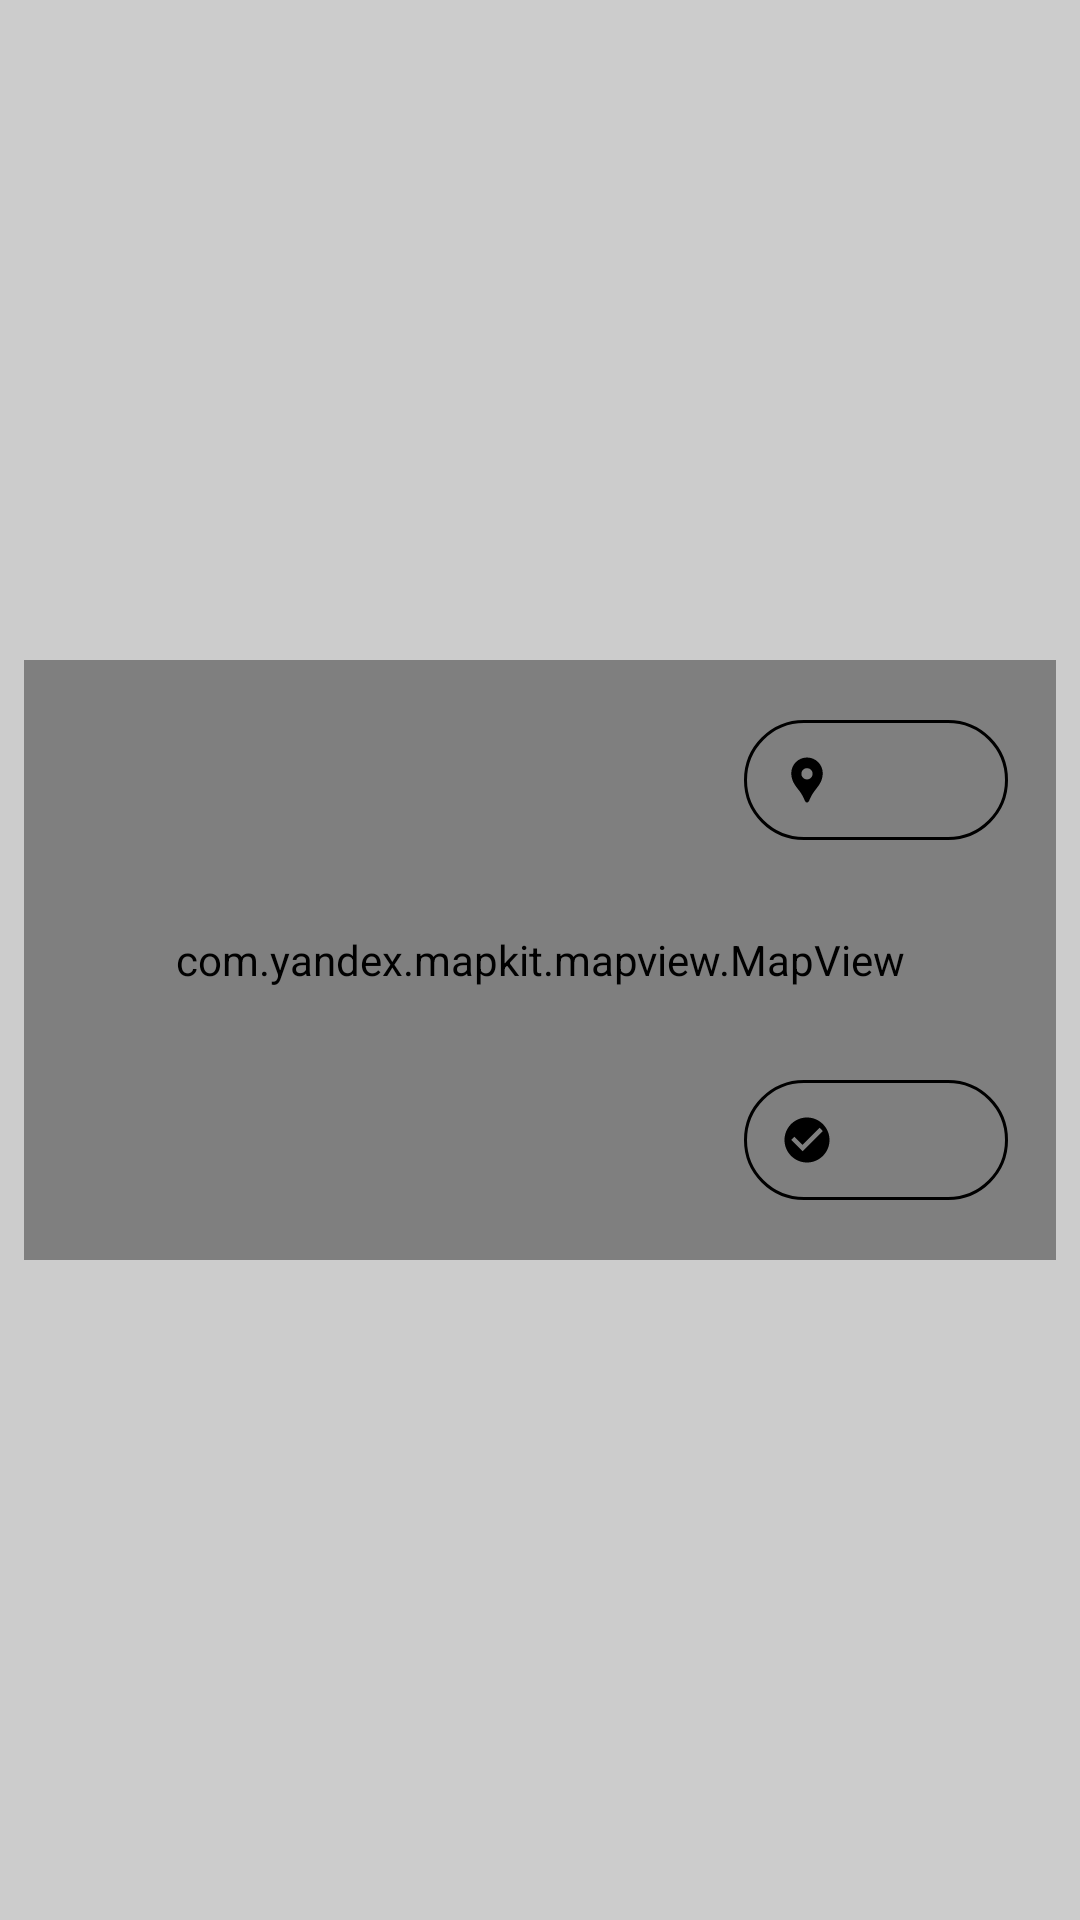

Named icons in this screenshot (1080w x 1920h) and their bounding boxes, (x1, y1, x2, y2):
check circle: (744, 1080, 1008, 1200)
location pin: (744, 720, 1008, 840)
